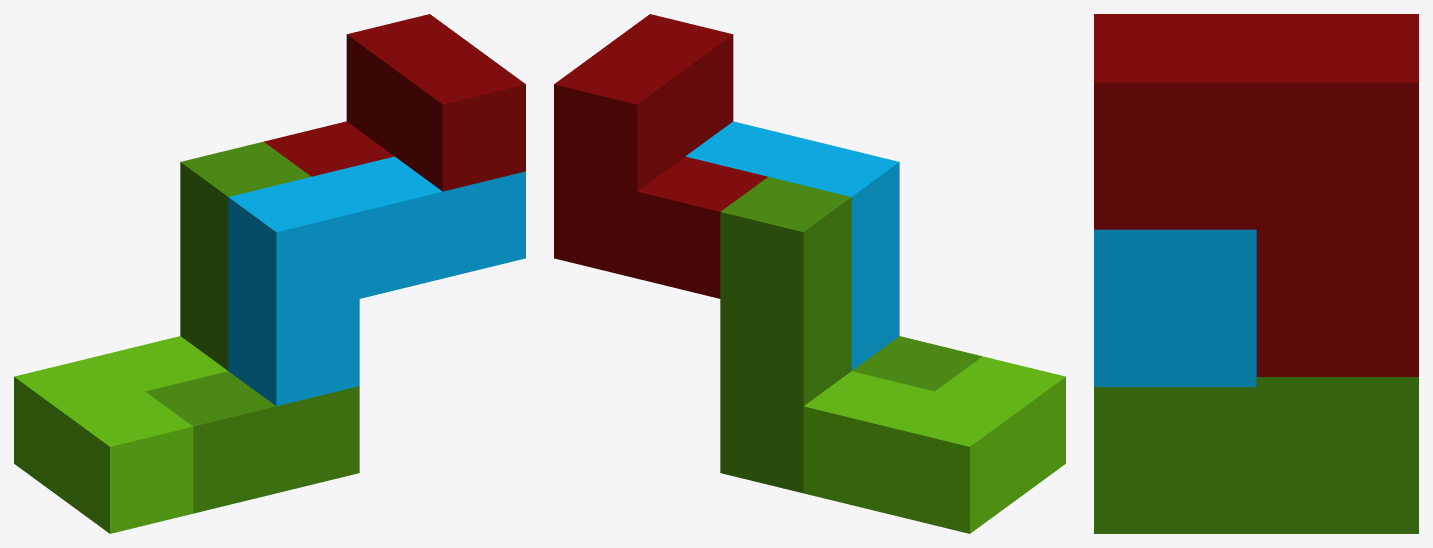
The picture shows the model from 3 angles, left to right: view 1: azimuth 30°, elevation 25°; view 2: azimuth 150°, elevation 25°; view 3: azimuth 270°, elevation 25°; orthographic projection. The views are drawn at different scales.
Parts seen in each view (by area): view 1: mergedBlocks(Clone); view 2: mergedBlocks(Clone); view 3: mergedBlocks(Clone).
Boxes of the visible parts, bbox=[...] form: mergedBlocks(Clone): bbox=[14, 14, 525, 533]; mergedBlocks(Clone): bbox=[554, 14, 1065, 533]; mergedBlocks(Clone): bbox=[1094, 14, 1418, 533].
Size of the model in its own units: 5 by 4 by 2.
4 materials, 4 textured.
